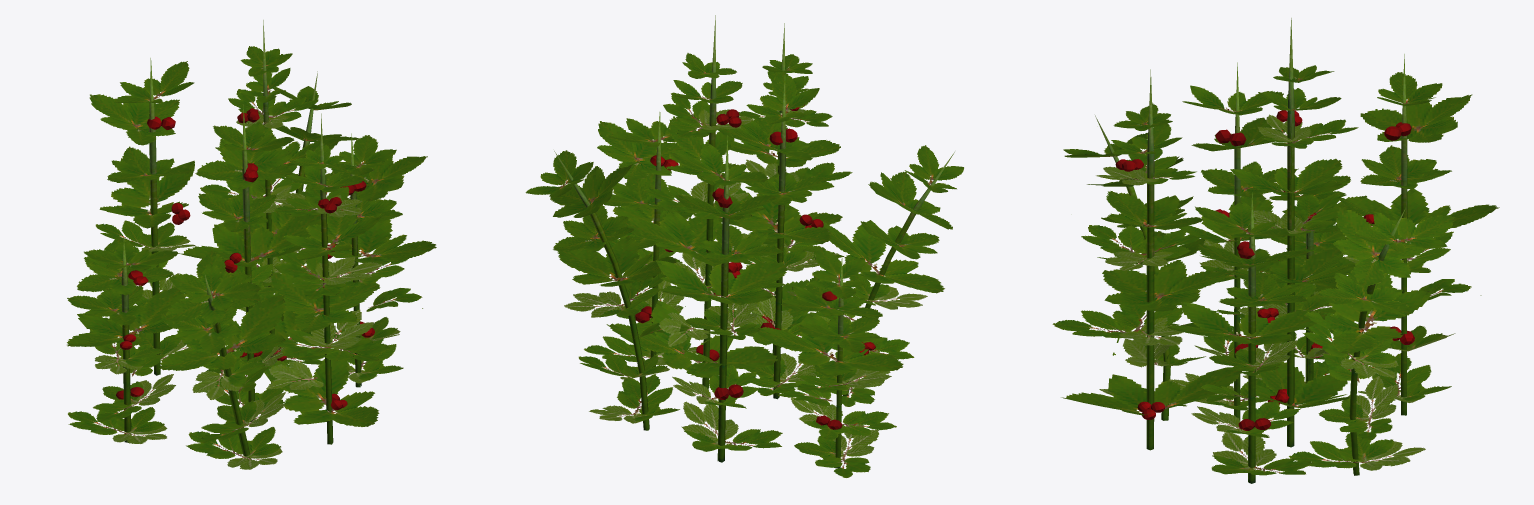
Rendered from BerryBush2.gltf.
3 renders of one model, left to right at view 1: azimuth 30°, elevation 25°; view 2: azimuth 150°, elevation 25°; view 3: azimuth 270°, elevation 25°, orthographic. The views are drawn at different scales.
Parts seen in each view (by area): view 1: Object_7, Object_17, Object_15, Object_11, Object_14, Object_12; view 2: Object_7, Object_17, Object_11, Object_15, Object_12; view 3: Object_7, Object_17, Object_11, Object_15, Object_14, Object_12.
Part boxes in pixels (left/top/right/bottom): Object_7: left=67, top=46, right=427, bottom=469; Object_17: left=67, top=61, right=436, bottom=460; Object_15: left=116, top=108, right=374, bottom=410; Object_11: left=263, top=20, right=361, bottom=387; Object_14: left=320, top=113, right=333, bottom=444; Object_12: left=242, top=104, right=255, bottom=421; Object_7: left=549, top=53, right=952, bottom=477; Object_17: left=525, top=67, right=963, bottom=468; Object_11: left=554, top=15, right=716, bottom=430; Object_15: left=635, top=104, right=875, bottom=429; Object_12: left=773, top=74, right=785, bottom=399; Object_7: left=1052, top=54, right=1472, bottom=475; Object_17: left=1061, top=72, right=1499, bottom=420; Object_11: left=1248, top=18, right=1405, bottom=483; Object_15: left=1115, top=110, right=1414, bottom=430; Object_14: left=1146, top=69, right=1154, bottom=450; Object_12: left=1234, top=62, right=1240, bottom=420.
Size of the model in its own units: 3.06 by 3.1 by 3.1.
1 material, 1 textured.
